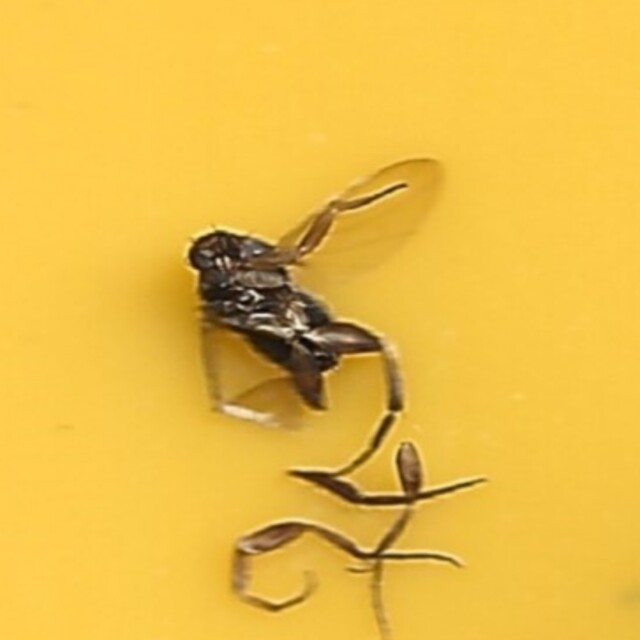Hymenoptera: (176, 158, 464, 482)
